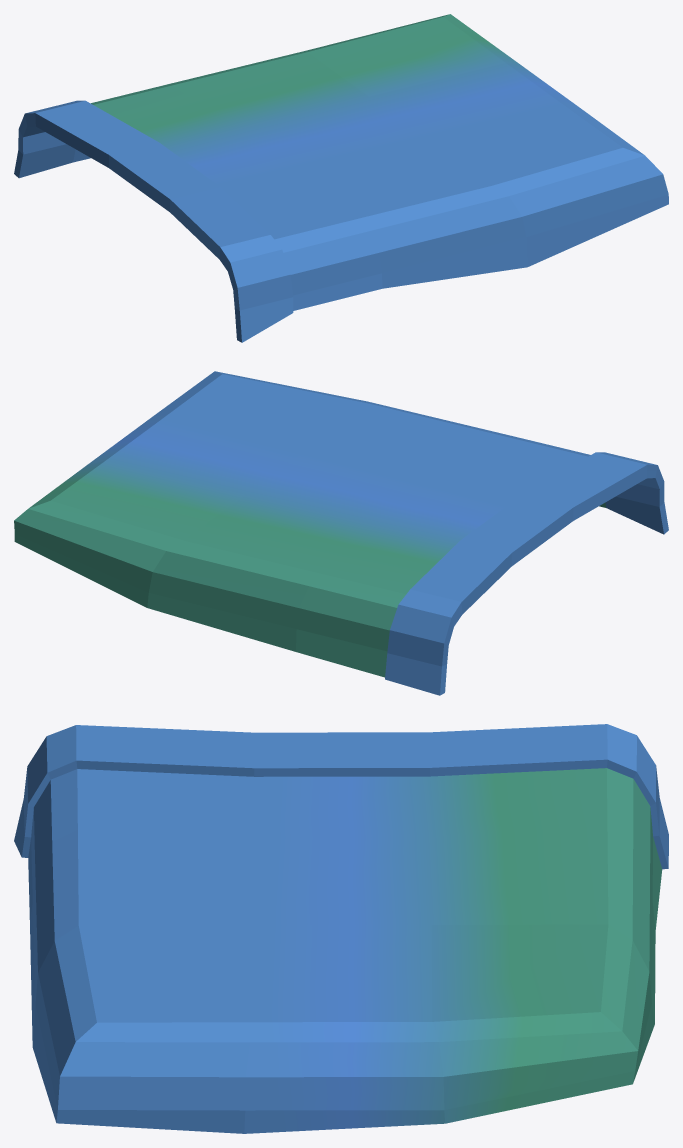
Rendered from Childrens_Room_Blanket.fbx.
The picture shows the model from 3 angles, top to bottom: view 1: azimuth 30°, elevation 25°; view 2: azimuth 150°, elevation 25°; view 3: azimuth 270°, elevation 25°; orthographic projection. The views are drawn at different scales.
Parts seen in each view (by area): view 1: Childrens_Room_Blanket; view 2: Childrens_Room_Blanket; view 3: Childrens_Room_Blanket.
Boxes of the visible parts, box(x1,y1,x2,y2) form: Childrens_Room_Blanket: box(14, 14, 668, 342); Childrens_Room_Blanket: box(14, 371, 668, 695); Childrens_Room_Blanket: box(14, 724, 668, 1133).
Bounding box in the file's own units: 191 × 33.23 × 168.
